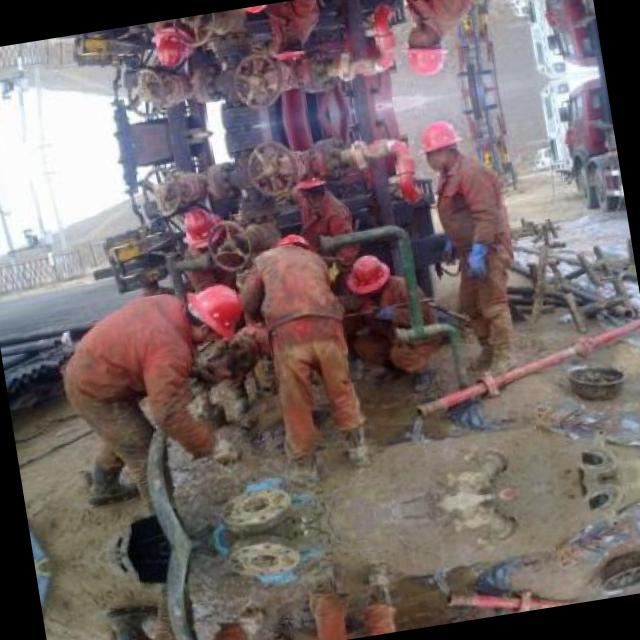helmet: (178, 274, 255, 349), (415, 115, 466, 178), (400, 18, 450, 81), (342, 248, 396, 302), (177, 198, 222, 258), (148, 18, 194, 76), (272, 225, 318, 264), (237, 2, 280, 22)
